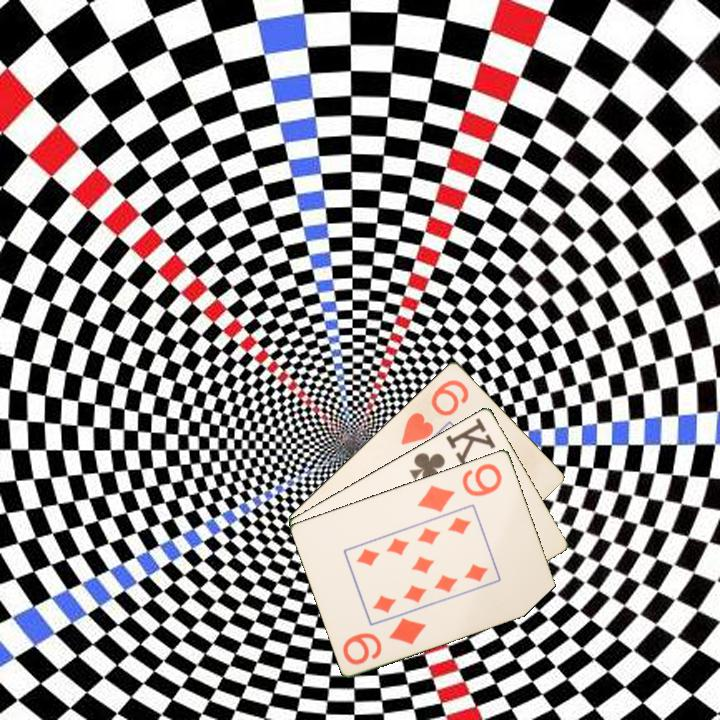6h: (397, 375, 472, 448)
9d: (414, 459, 505, 515), (339, 614, 429, 668)
Kc: (406, 414, 498, 486)
